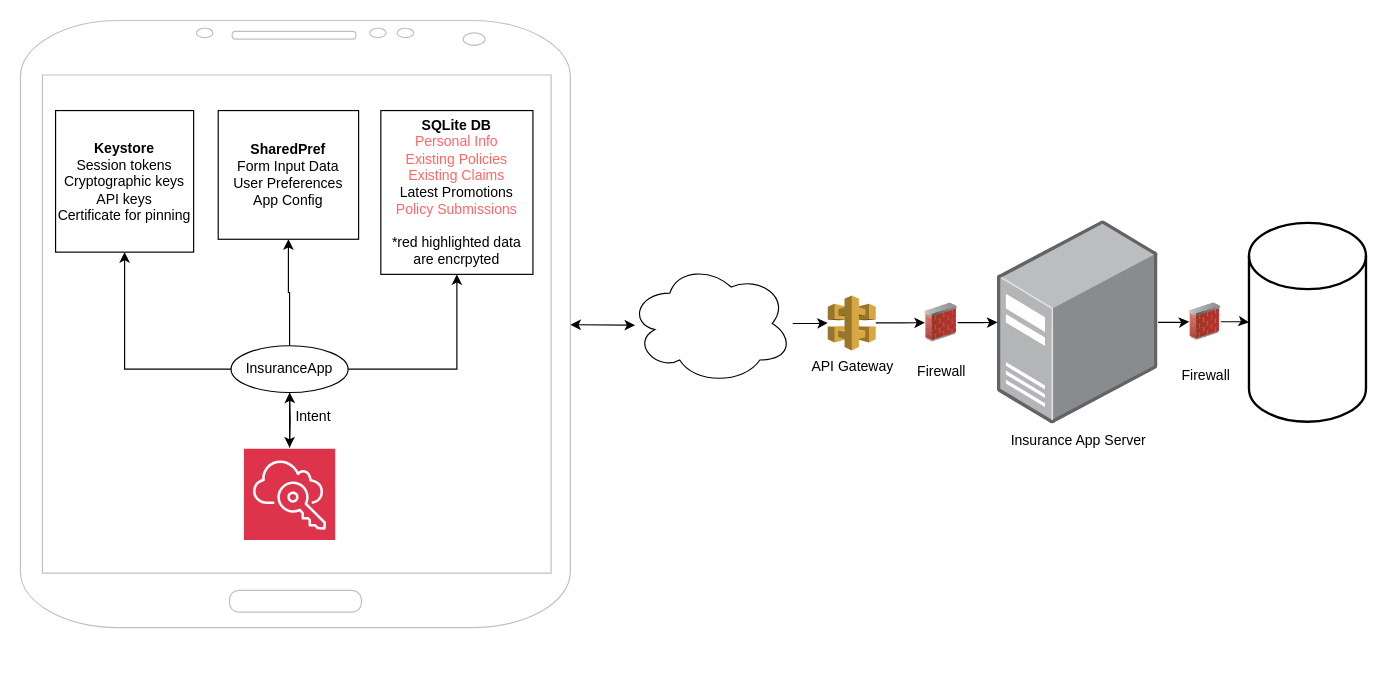
This 1388x673 diagram has some shape labels left out. Each missing label, with the box of its shape:
Android Phone: (19, 19, 570, 628)
Cellular network (HTTPS only): (628, 261, 793, 384)
MongoDB: (1247, 221, 1367, 422)
Singpass: (243, 448, 335, 540)
